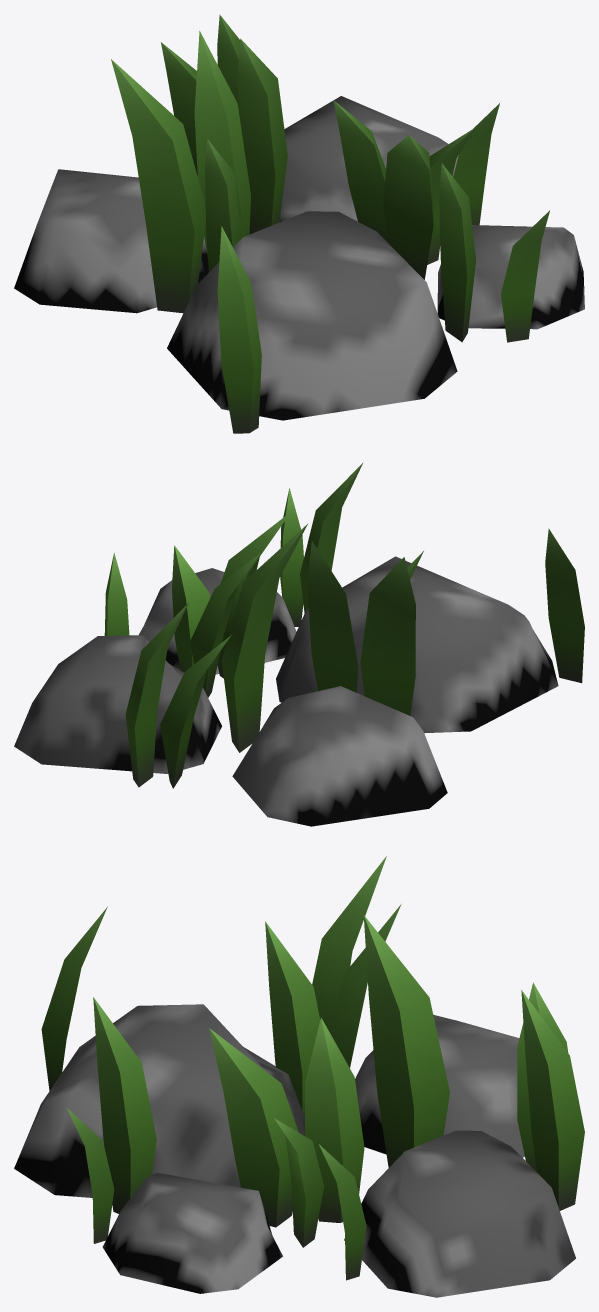
Rendered from deco_rocks_B_grass.FBX.
The picture shows the model from 3 angles, top to bottom: view 1: azimuth 30°, elevation 25°; view 2: azimuth 150°, elevation 25°; view 3: azimuth 270°, elevation 25°; orthographic projection. The views are drawn at different scales.
Parts seen in each view (by area): view 1: deco_rocks_B_grass; view 2: deco_rocks_B_grass; view 3: deco_rocks_B_grass.
Boxes of the visible parts, x1,y1,x2,y2 form: deco_rocks_B_grass: (14,14,584,433); deco_rocks_B_grass: (14,463,584,826); deco_rocks_B_grass: (14,856,584,1297).
Size of the model in its own units: 1.79 by 0.9443 by 1.91.
1 material, 1 textured.
